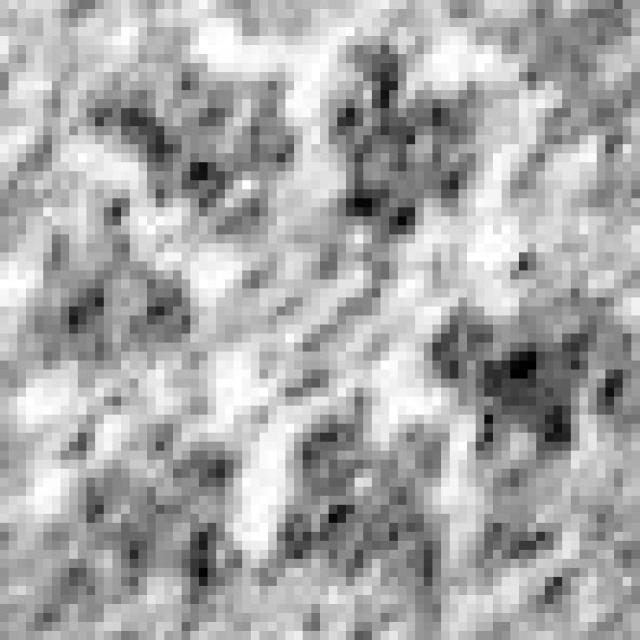inner: (211, 209, 414, 408)
lobe: (76, 27, 303, 233), (270, 384, 454, 595), (422, 285, 633, 467), (56, 419, 241, 623), (323, 37, 484, 236), (17, 213, 199, 373)
outer: (0, 5, 640, 640)
